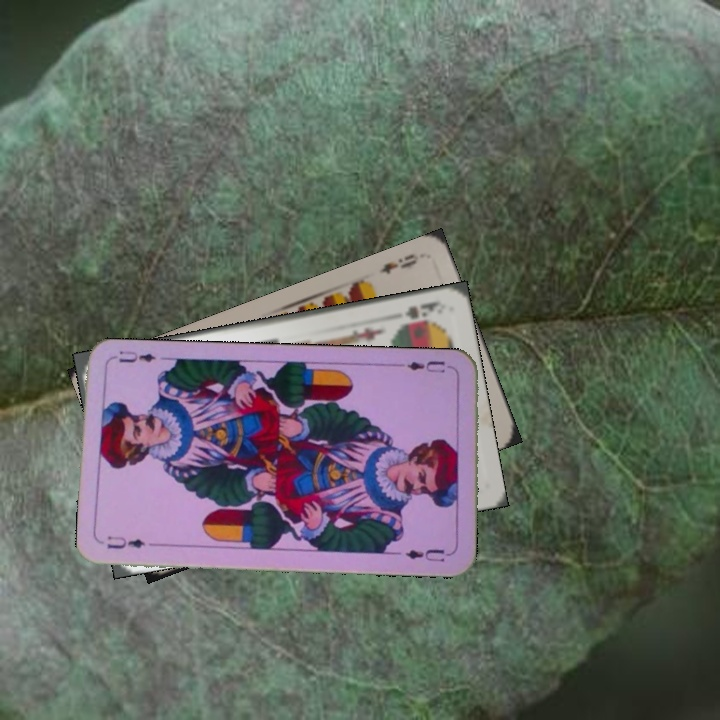E9: (375, 249, 421, 277)
EU: (397, 356, 456, 376), (103, 531, 147, 552)
SK: (395, 297, 444, 328)
